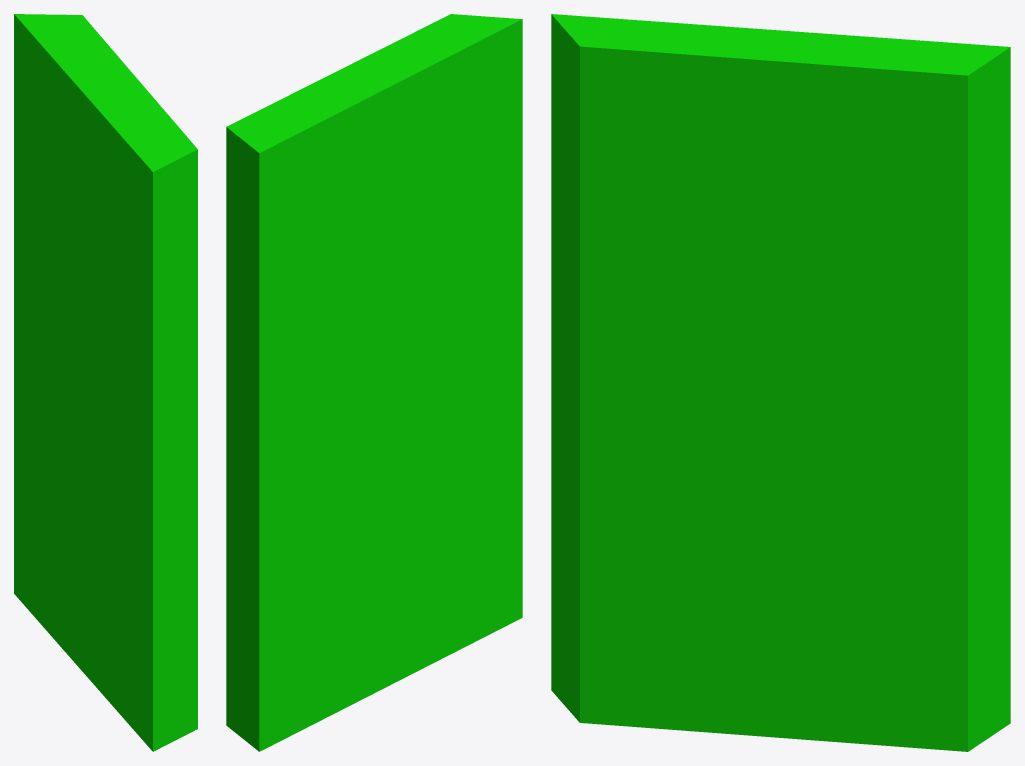
The model's file is sm_castle_046.fbx.
The picture shows the model from 3 angles, left to right: view 1: azimuth 30°, elevation 25°; view 2: azimuth 150°, elevation 25°; view 3: azimuth 270°, elevation 25°; orthographic projection. The views are drawn at different scales.
Visible parts, largest first — view 1: sm_castle.046; view 2: sm_castle.046; view 3: sm_castle.046.
Part boxes in pixels (x1=…): sm_castle.046: x1=14, y1=14, x2=197, y2=751; sm_castle.046: x1=226, y1=14, x2=522, y2=751; sm_castle.046: x1=551, y1=14, x2=1010, y2=751.
Bounding box in the file's own units: 110 × 565 × 348.
